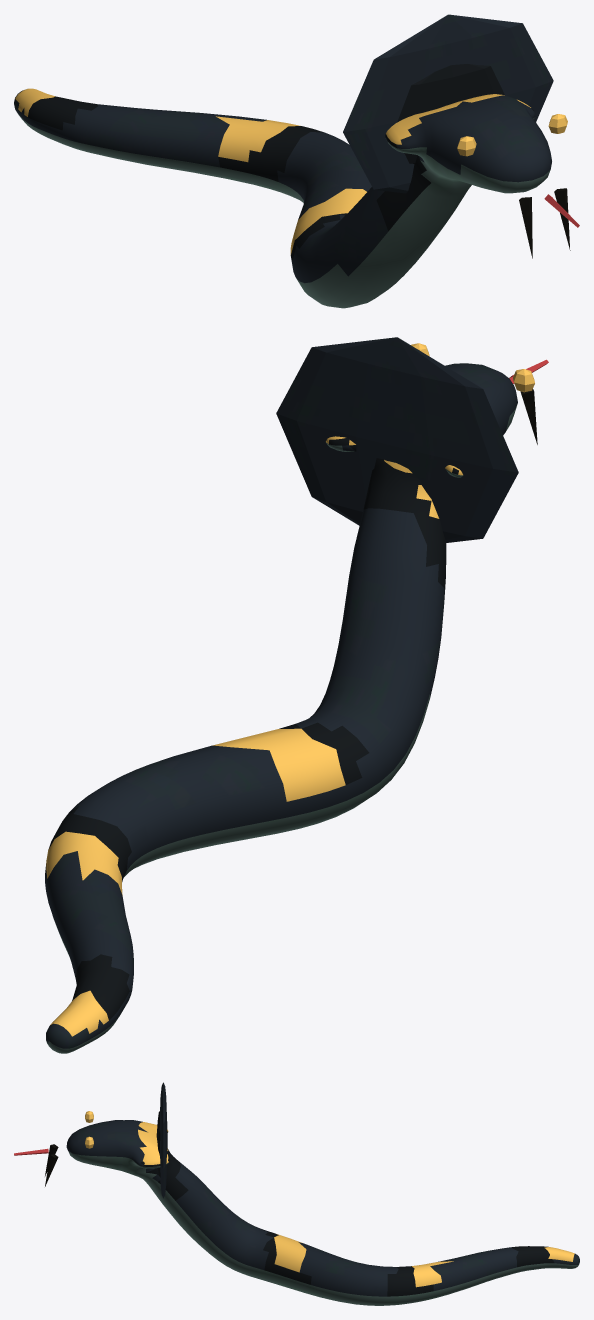
The model's file is mon_sp_abyss_angler.glb.
The picture shows the model from 3 angles, top to bottom: view 1: azimuth 30°, elevation 25°; view 2: azimuth 150°, elevation 25°; view 3: azimuth 270°, elevation 25°; orthographic projection. The views are drawn at different scales.
Parts seen in each view (by area): view 1: mon_sp_abyss_angler; view 2: mon_sp_abyss_angler; view 3: mon_sp_abyss_angler.
Part boxes in pixels (x1=…): mon_sp_abyss_angler: x1=14, y1=14, x2=579, y2=308; mon_sp_abyss_angler: x1=45, y1=337, x2=548, y2=1053; mon_sp_abyss_angler: x1=14, y1=1082, x2=579, y2=1305.
Bounding box in the file's own units: 1.17 × 1.84 × 4.73.
Materials: 6 (3 with a texture image).
